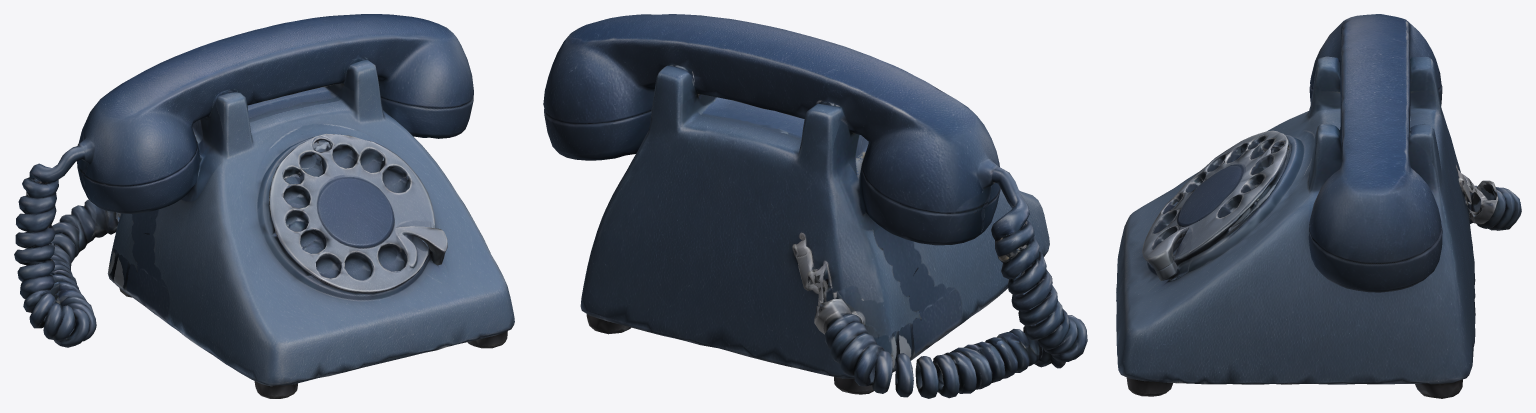
File: VAR_Bedroom_RotaryPhone.fbx
The picture shows the model from 3 angles, left to right: view 1: azimuth 30°, elevation 25°; view 2: azimuth 150°, elevation 25°; view 3: azimuth 270°, elevation 25°; orthographic projection. The views are drawn at different scales.
Visible parts, largest first — view 1: texture_mapping; view 2: texture_mapping; view 3: texture_mapping.
Part boxes in pixels (left/top/right/bottom): texture_mapping: left=14, top=14, right=514, bottom=398; texture_mapping: left=543, top=14, right=1087, bottom=398; texture_mapping: left=1116, top=14, right=1521, bottom=398.
Bounding box in the file's own units: 1 × 0.7423 × 0.5432.
Materials: 1 (1 with a texture image).
